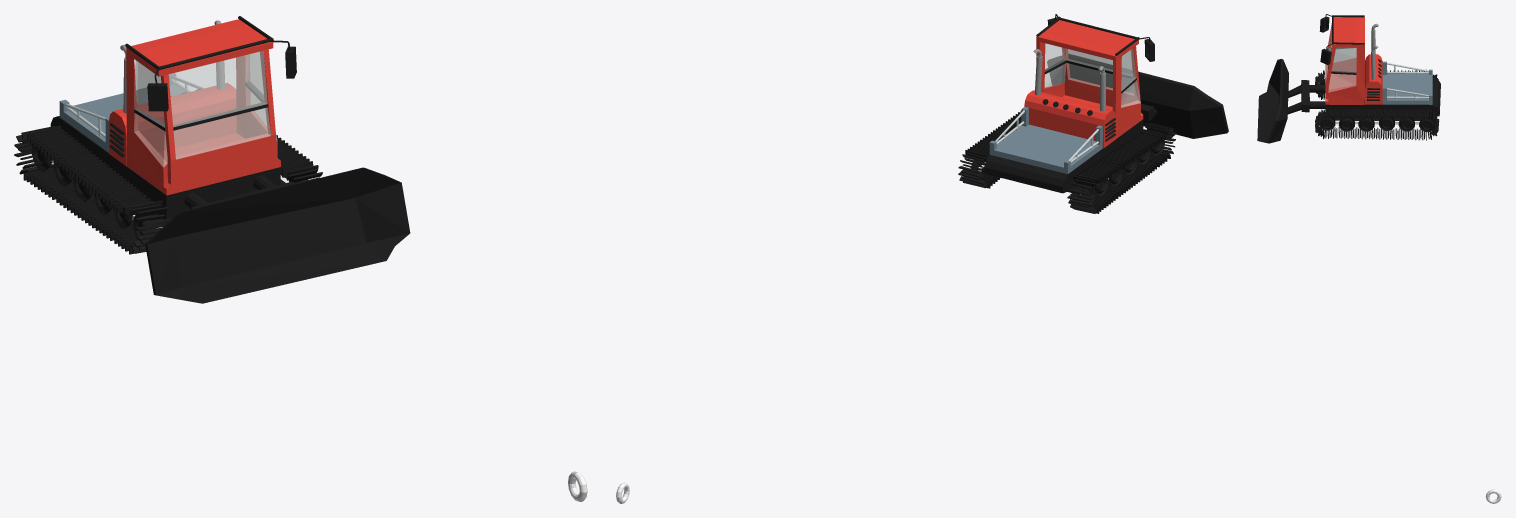
File: model-triangulated.obj
3 views of the same model, side by side, from view 1: azimuth 30°, elevation 25°; view 2: azimuth 150°, elevation 25°; view 3: azimuth 270°, elevation 25° (orthographic). The views are drawn at different scales.
Visible parts, largest first — view 1: group1451762203, group1478061345, group683665432, group1564335395, group1309366579, group2010473295, group2135427635, group1340568179, group252598036, group579746682; view 2: group1478061345, group1451762203, group1340568179, group847541579, group2010473295, group2135427635, group1309366579, group683665432, group1564335395; view 3: group1478061345, group1451762203, group1340568179, group1564335395, group1070800193, group2010473295, group1637789790, group847541579, group515921087.
Part boxes in pixels (<box>): group1451762203: <box>145,167,410,303</box>; group1478061345: <box>126,19,280,195</box>; group683665432: <box>168,50,267,126</box>; group1564335395: <box>62,120,280,219</box>; group1309366579: <box>173,107,270,159</box>; group2010473295: <box>109,83,235,134</box>; group2135427635: <box>108,107,236,166</box>; group1340568179: <box>59,73,184,152</box>; group252598036: <box>134,60,164,127</box>; group579746682: <box>134,113,167,167</box>; group1478061345: <box>1036,20,1143,138</box>; group1451762203: <box>1047,54,1228,138</box>; group1340568179: <box>989,107,1102,173</box>; group847541579: <box>984,154,1071,193</box>; group2010473295: <box>1024,90,1115,126</box>; group2135427635: <box>1029,108,1115,148</box>; group1309366579: <box>1066,63,1133,95</box>; group683665432: <box>1065,48,1132,76</box>; group1564335395: <box>1071,119,1143,188</box>; group1478061345: <box>1325,17,1364,104</box>; group1451762203: <box>1257,59,1288,143</box>; group1340568179: <box>1382,61,1432,104</box>; group1564335395: <box>1325,99,1428,117</box>; group1070800193: <box>1331,47,1356,72</box>; group2010473295: <box>1365,54,1382,88</box>; group1637789790: <box>1328,73,1356,92</box>; group847541579: <box>1429,77,1440,116</box>; group515921087: <box>1301,80,1309,112</box>.
Size of the model in its own units: 0.1787 by 0.1825 by 0.1163.
